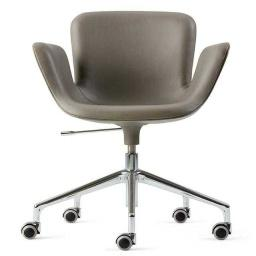Chair: (30, 11, 232, 250)
